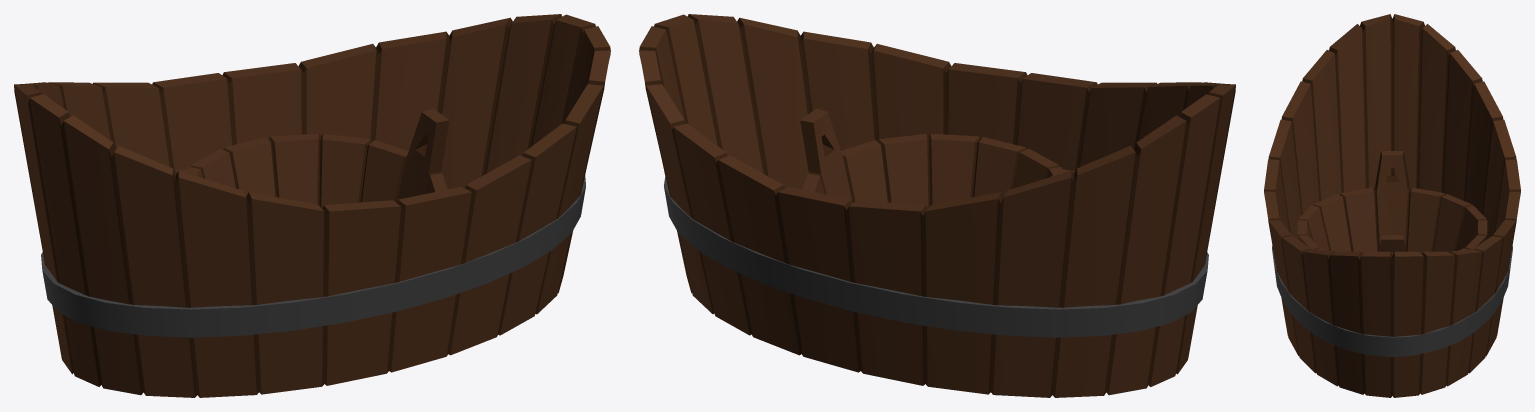
The model's file is WashTubs.fbx.
3 renders of one model, left to right at view 1: azimuth 30°, elevation 25°; view 2: azimuth 150°, elevation 25°; view 3: azimuth 270°, elevation 25°, orthographic. The views are drawn at different scales.
Visible parts, largest first — view 1: Bathtub, Washtub; view 2: Bathtub, Washtub; view 3: Bathtub, Washtub.
Part boxes in pixels (x1,y1,x2,y2): Bathtub: (14,14,610,397); Washtub: (175,108,449,208); Bathtub: (639,14,1235,397); Washtub: (800,108,1074,208); Bathtub: (1264,14,1520,397); Washtub: (1297,151,1487,255).
Bounding box in the file's own units: 2.39 × 1.17 × 1.33.
